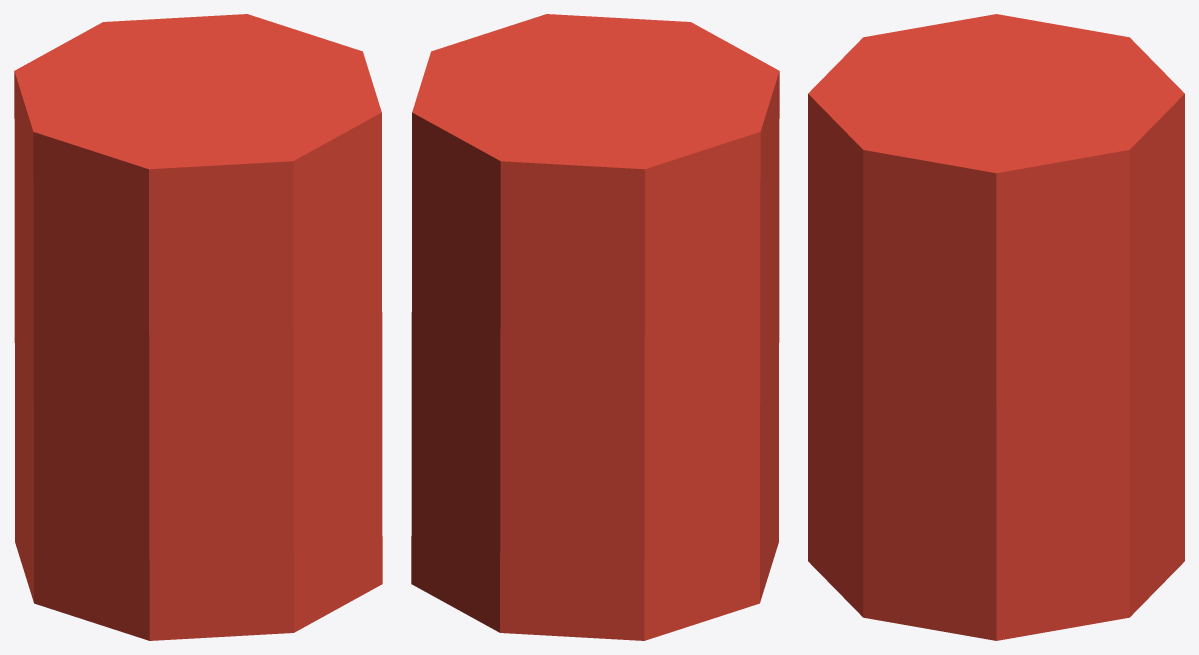
File: Itr_Obj_Dispenser_Sauce_05.FBX
3 renders of one model, left to right at view 1: azimuth 30°, elevation 25°; view 2: azimuth 150°, elevation 25°; view 3: azimuth 270°, elevation 25°, orthographic.
Parts seen in each view (by area): view 1: Itr_Obj_Dispenser_Sauce_05; view 2: Itr_Obj_Dispenser_Sauce_05; view 3: Itr_Obj_Dispenser_Sauce_05.
Boxes of the visible parts, box(x1,y1,x2,y2) form: Itr_Obj_Dispenser_Sauce_05: box(14, 14, 382, 640); Itr_Obj_Dispenser_Sauce_05: box(411, 14, 779, 640); Itr_Obj_Dispenser_Sauce_05: box(808, 14, 1184, 640).
Size of the model in its own units: 3.78 by 5.16 by 3.77.
